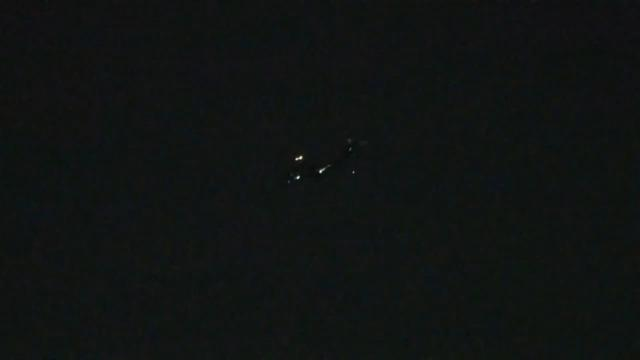Plane: (267, 134, 381, 196)
